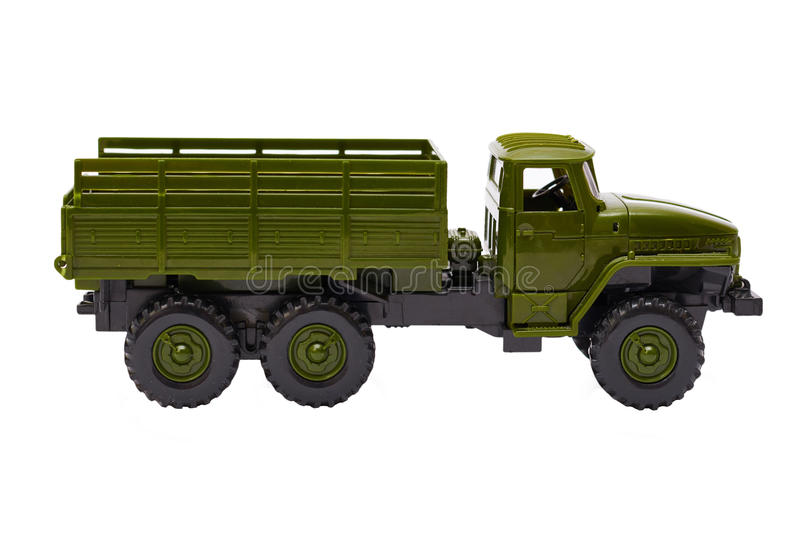camion: (62, 139, 760, 421)
